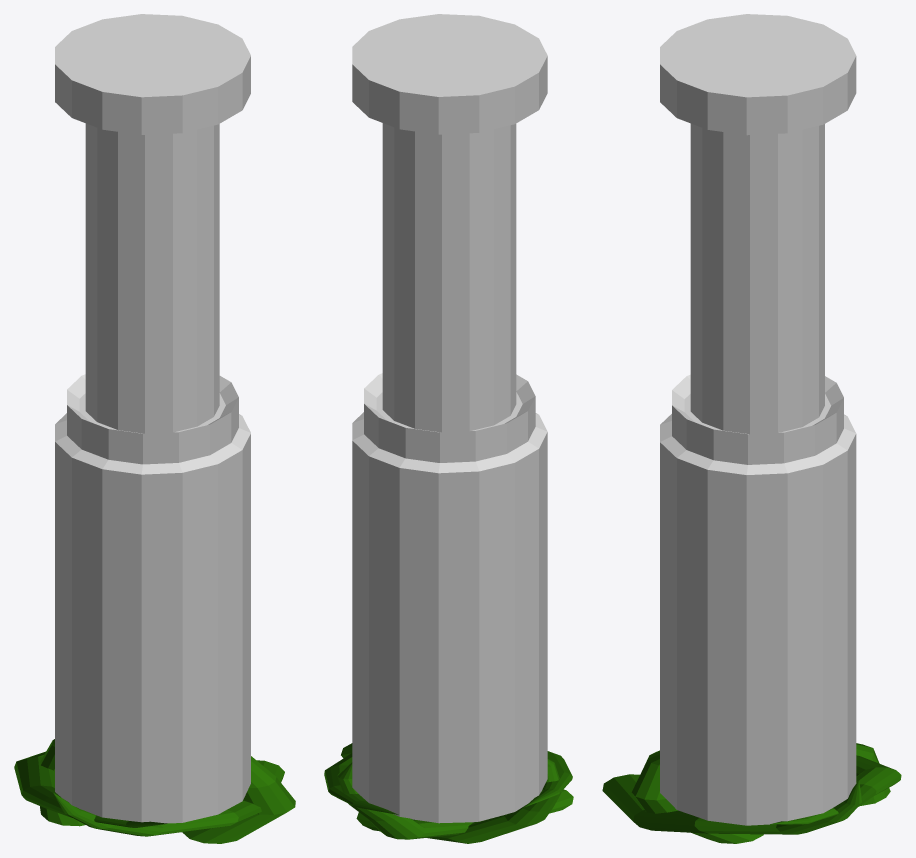
Rendered from JackhammerArm1.glb.
3 renders of one model, left to right at view 1: azimuth 30°, elevation 25°; view 2: azimuth 150°, elevation 25°; view 3: azimuth 270°, elevation 25°, orthographic.
Parts seen in each view (by area): view 1: Jackhammer, JackhammerHard; view 2: Jackhammer, JackhammerHard; view 3: Jackhammer, JackhammerHard.
Part boxes in pixels (<box>): Jackhammer: <box>55,14,250,823</box>; JackhammerHard: <box>14,739,295,843</box>; Jackhammer: <box>352,14,547,823</box>; JackhammerHard: <box>324,743,573,843</box>; Jackhammer: <box>660,14,856,825</box>; JackhammerHard: <box>602,743,901,843</box>.
Bounding box in the file's own units: 3.06 × 9.29 × 3.44.
